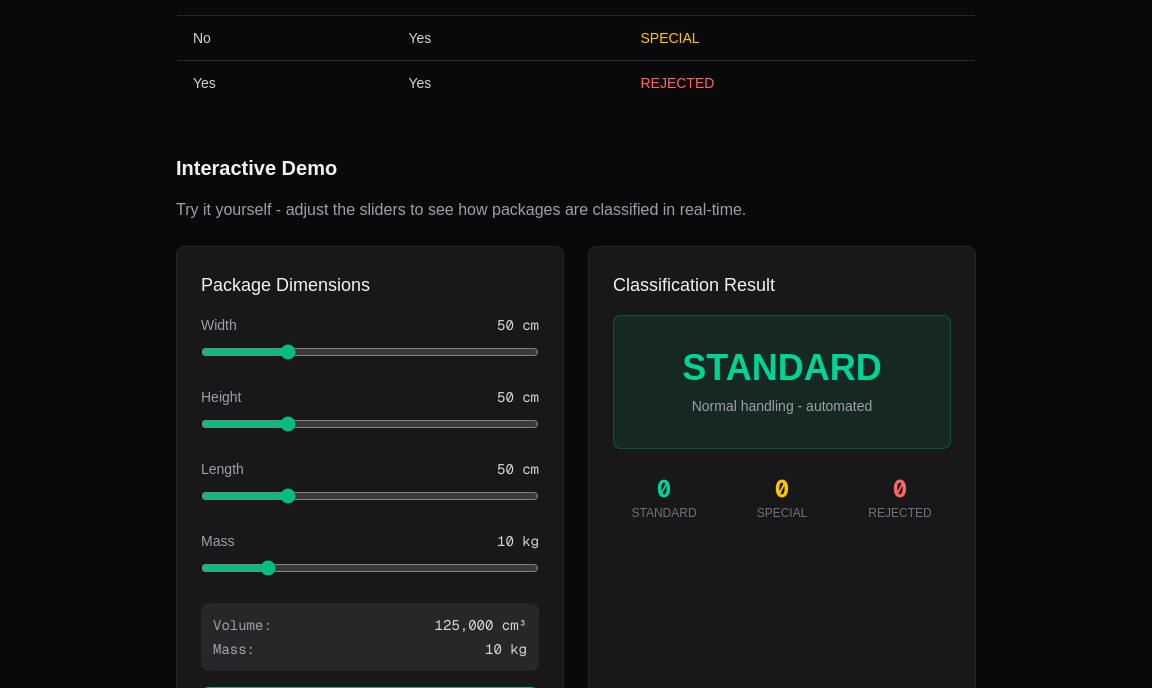
Test case: PackageSorterPage › shows REJECTED result for bulky and heavy packages
The width and height of the screenshot is (1152, 688).
(page scrolled)
Set the 1st slider to "200" at (531, 352), box [201, 344, 539, 360]
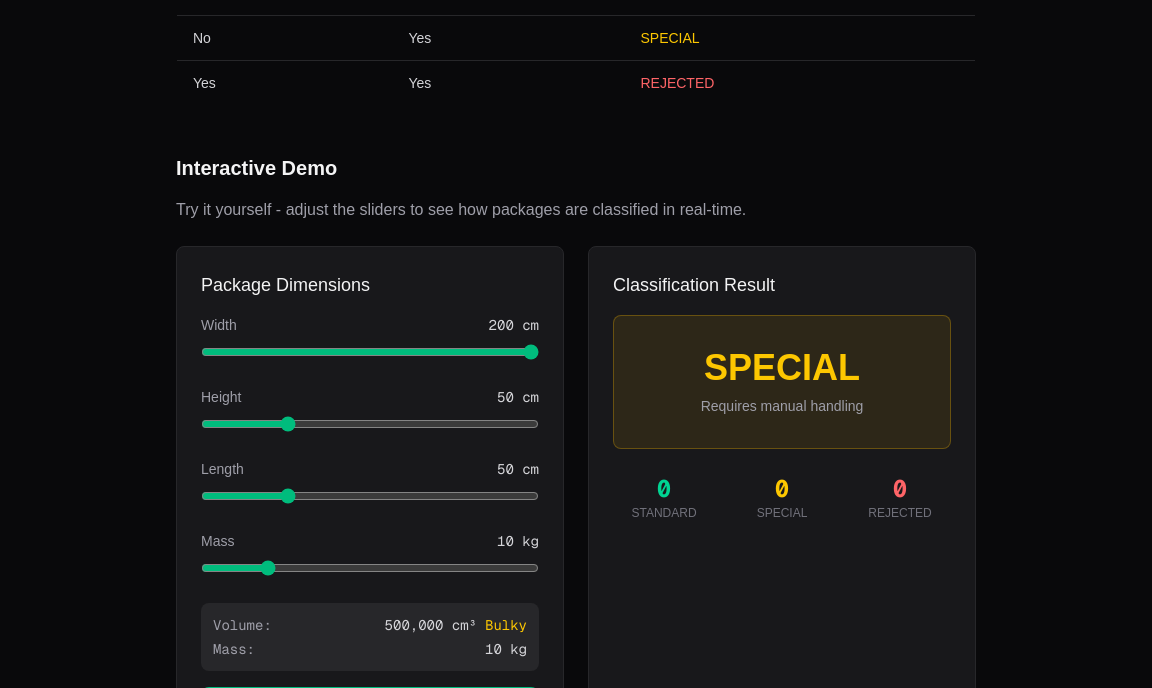
Set the 4th slider to "25" at (367, 568), box [201, 560, 539, 576]
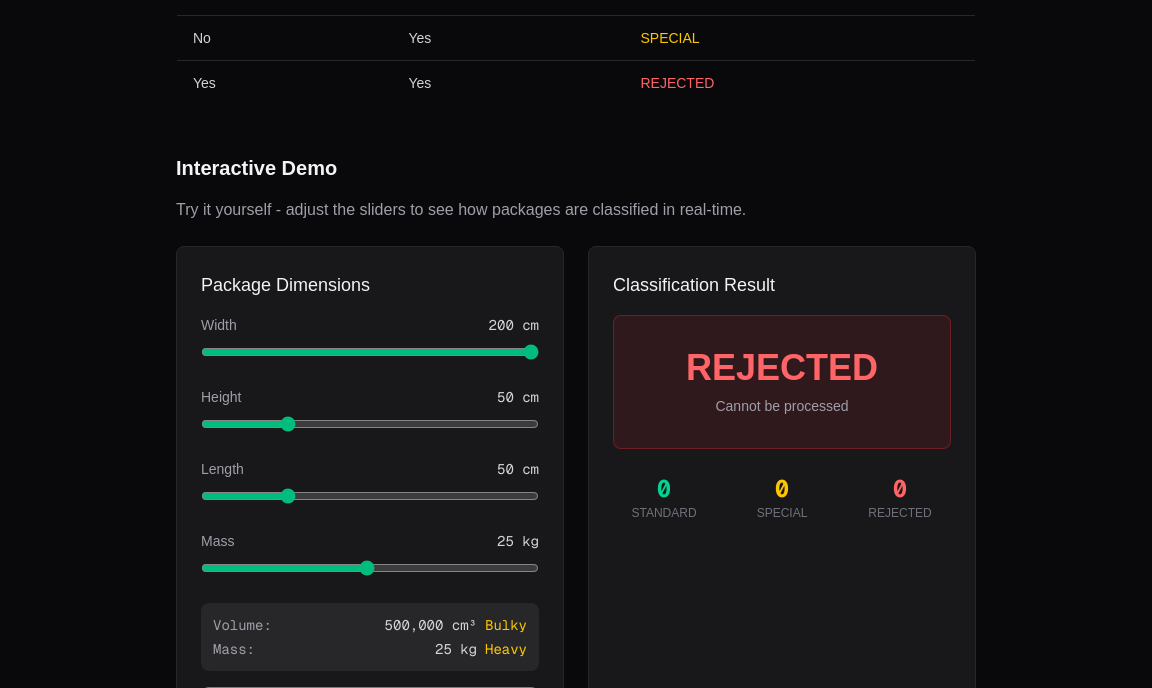
Expected: the text "Cannot be processed" is shown, [716, 398, 849, 414]
